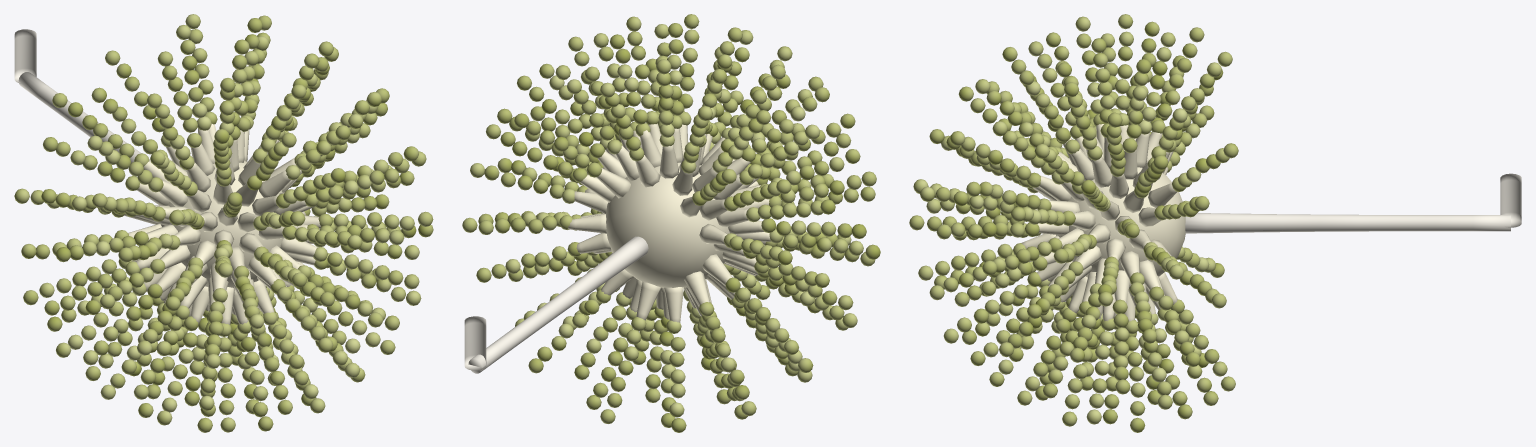
Rendered from aspergillus-oryzae.glb.
3 views of the same model, side by side, from view 1: azimuth 30°, elevation 25°; view 2: azimuth 150°, elevation 25°; view 3: azimuth 270°, elevation 25° (orthographic).
Parts seen in each view (by area): view 1: conidial_chains, vesicle_phialides, conidiophore_stipe; view 2: conidial_chains, vesicle_phialides, conidiophore_stipe; view 3: conidial_chains, vesicle_phialides, conidiophore_stipe.
Boxes of the visible parts, x1,y1,x2,y2 form: conidial_chains: (14,14,433,432); vesicle_phialides: (124,124,320,324); conidiophore_stipe: (14,29,150,163); conidial_chains: (462,14,880,432); vesicle_phialides: (567,123,770,322); conidiophore_stipe: (464,236,648,373); conidial_chains: (909,14,1238,432); vesicle_phialides: (1021,124,1185,321); conidiophore_stipe: (1185,173,1521,233).
Bounding box in the file's own units: 4.59 × 4.61 × 6.8.
